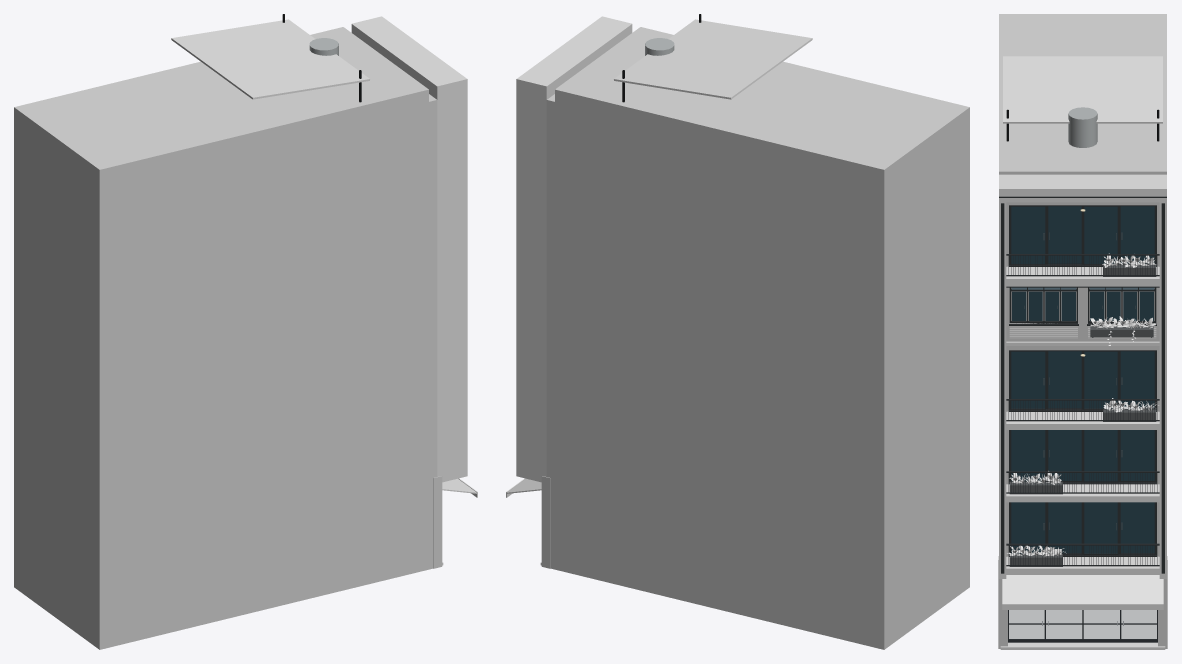
File: OW_Mau_NhaPho_7_0_0.fbx
3 renders of one model, left to right at view 1: azimuth 30°, elevation 25°; view 2: azimuth 150°, elevation 25°; view 3: azimuth 270°, elevation 25°, orthographic.
Visible parts, largest first — view 1: OW_NhaPho_9032; view 2: OW_NhaPho_9032; view 3: OW_NhaPho_9032, OW_MatTienKinh.
Boxes of the visible parts, <box> form: OW_NhaPho_9032: <box>14,14,477,649</box>; OW_NhaPho_9032: <box>506,14,969,649</box>; OW_NhaPho_9032: <box>998,14,1167,649</box>; OW_MatTienKinh: <box>1008,610,1157,642</box>.
Size of the model in its own units: 17.77 by 22.91 by 7.
